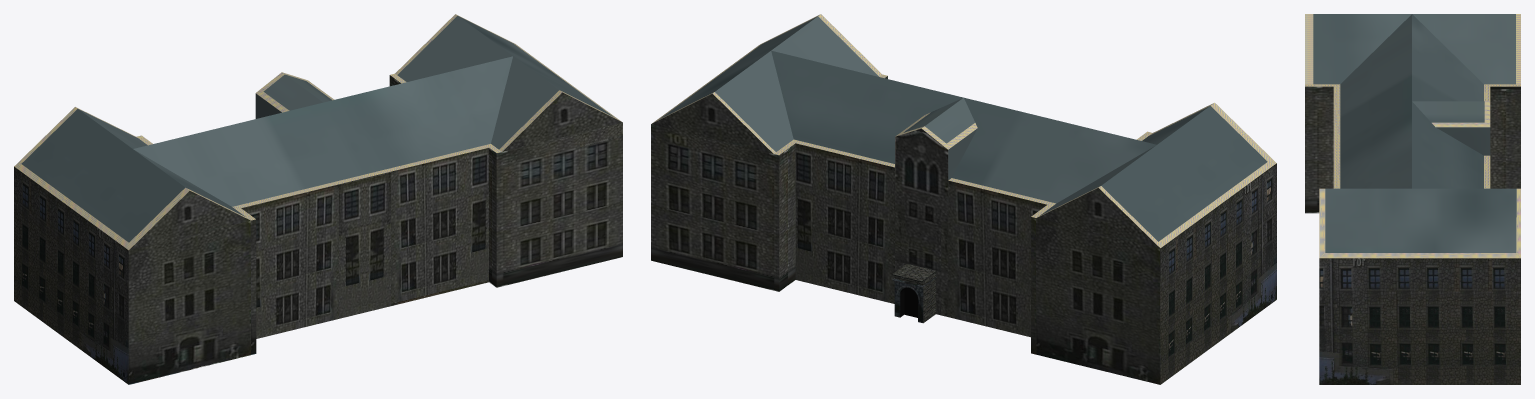
File: building_101.fbx
3 views of the same model, side by side, from view 1: azimuth 30°, elevation 25°; view 2: azimuth 150°, elevation 25°; view 3: azimuth 270°, elevation 25° (orthographic). The views are drawn at different scales.
Parts seen in each view (by area): view 1: skpA0C2_1; view 2: skpA0C2_1; view 3: skpA0C2_1.
Part boxes in pixels (x1=…): skpA0C2_1: x1=14, y1=14, x2=622, y2=384; skpA0C2_1: x1=651, y1=14, x2=1276, y2=384; skpA0C2_1: x1=1305, y1=14, x2=1520, y2=384.
Size of the model in its own units: 1843 by 630 by 730.
